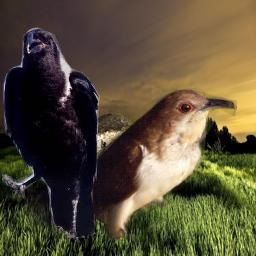Crow: (2, 27, 100, 243)
Cuckoo: (27, 88, 237, 241)
